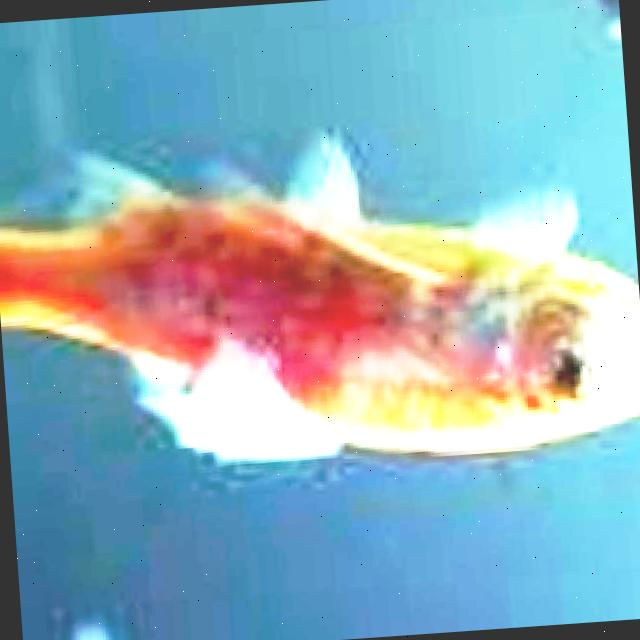Fungal Disease -Saprolegniasis-: (0, 196, 640, 459), (0, 196, 640, 458)
